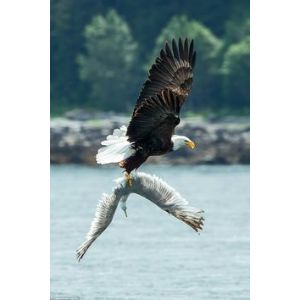eagle: (90, 38, 205, 173)
